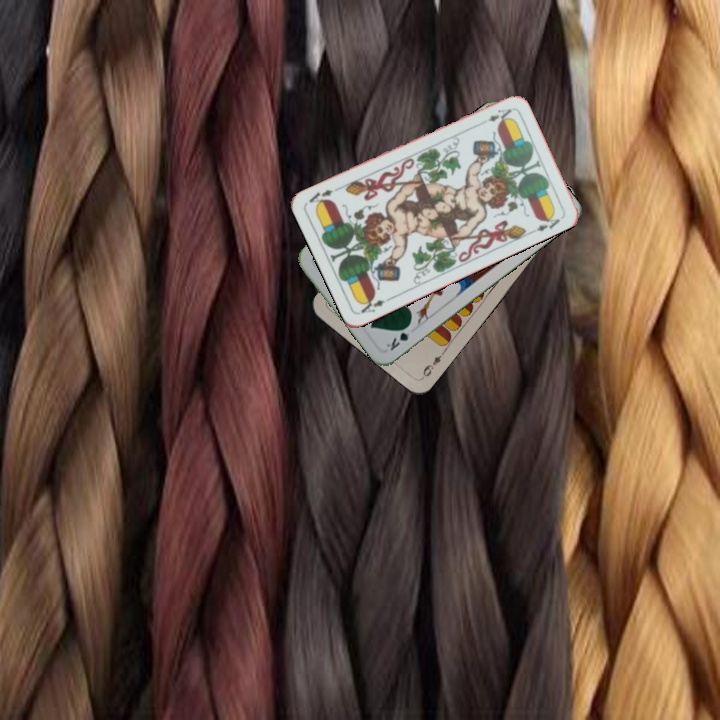E9: (418, 347, 448, 380)
EA: (476, 104, 514, 128), (357, 293, 394, 316)
GK: (382, 320, 414, 354)
